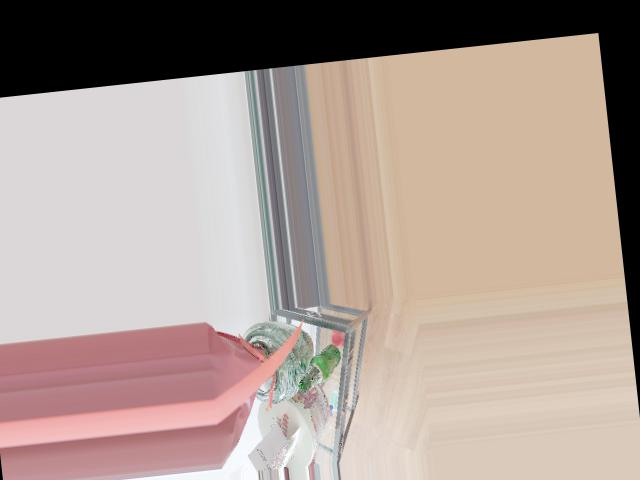beer: (295, 342, 344, 392)
